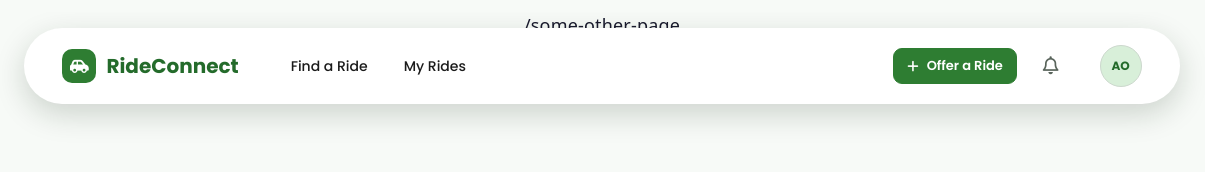
Test: AppHeader › navigates to Offer a Ride
Click the button "Offer a Ride": (955, 66) [893,48,1017,84]
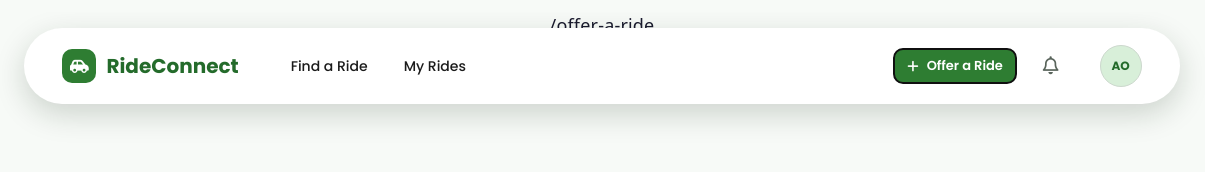
Check: the text with test id "path" reads "/offer-a-ride", box [550,13,654,37]
